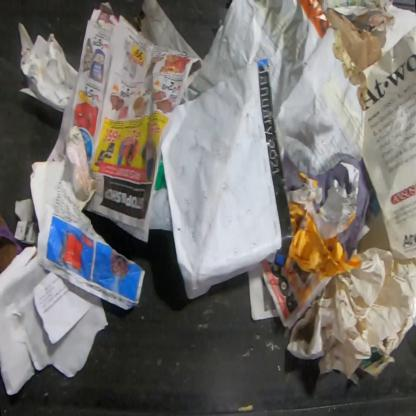cardboard: (325, 9, 382, 72), (0, 211, 23, 276), (13, 198, 40, 246)
